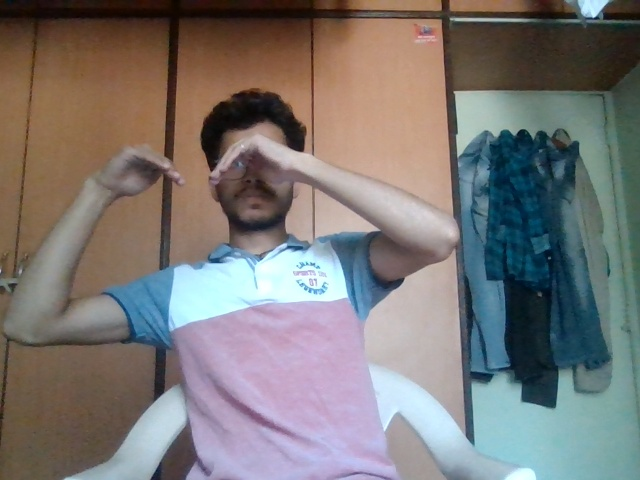we: (78, 133, 298, 218)
